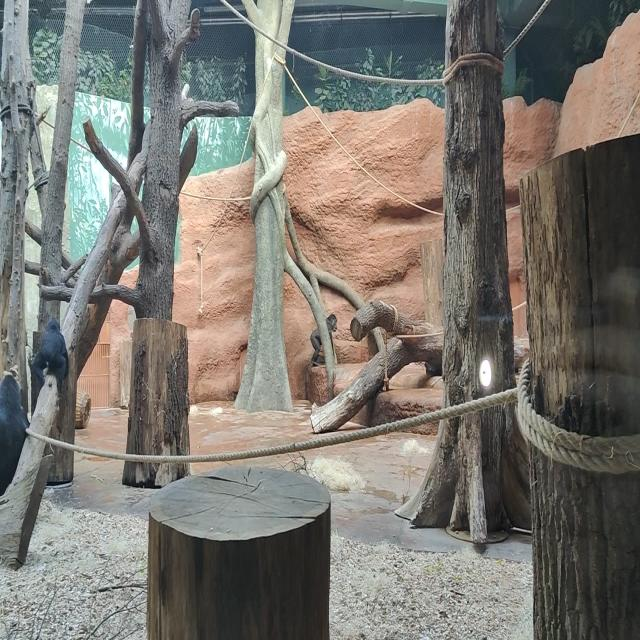monkey: (0, 374, 30, 496), (31, 318, 69, 393), (310, 313, 337, 366)
